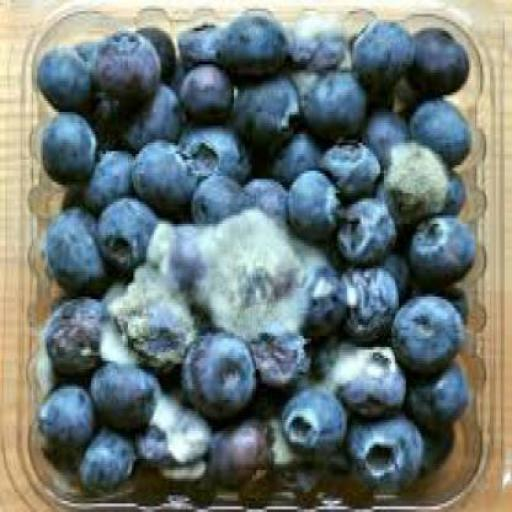biodegradable: (196, 204, 301, 333), (107, 280, 193, 366), (132, 386, 208, 478), (180, 327, 254, 420), (387, 288, 462, 378), (344, 412, 424, 495), (328, 338, 403, 420), (262, 400, 326, 490), (87, 357, 158, 434), (404, 352, 466, 439), (43, 204, 106, 288), (232, 67, 297, 148), (37, 377, 105, 454), (380, 138, 443, 218), (128, 137, 197, 210), (89, 26, 160, 96), (74, 419, 138, 495), (300, 67, 368, 137), (406, 212, 475, 280), (278, 384, 345, 454), (217, 8, 284, 78), (182, 117, 254, 182), (113, 84, 182, 151), (349, 14, 412, 87), (208, 417, 271, 490), (406, 95, 468, 168), (406, 22, 468, 95), (94, 199, 156, 271), (334, 194, 397, 264), (34, 44, 96, 112), (40, 294, 98, 366), (338, 266, 397, 336), (39, 109, 95, 179), (319, 134, 380, 196), (121, 80, 178, 146), (287, 165, 339, 235), (246, 324, 304, 386), (301, 260, 349, 333), (288, 8, 346, 67), (80, 148, 134, 210), (267, 126, 321, 182), (174, 62, 232, 114), (189, 174, 247, 224), (360, 103, 404, 165), (245, 174, 288, 226), (410, 279, 464, 319), (137, 25, 173, 81), (366, 76, 416, 115), (421, 428, 457, 479), (176, 22, 219, 62), (305, 336, 345, 378), (286, 224, 332, 260), (88, 89, 120, 140), (441, 165, 466, 215), (382, 246, 407, 294), (170, 56, 184, 95), (76, 37, 95, 61)
